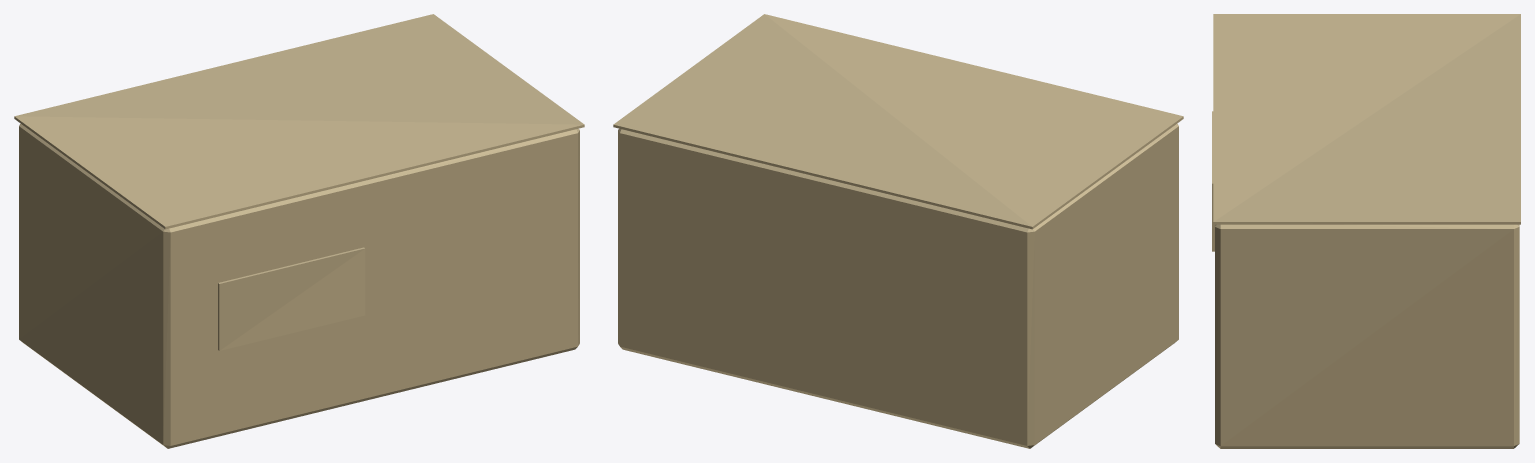
File: cardboard-box-00.glb
3 renders of one model, left to right at view 1: azimuth 30°, elevation 25°; view 2: azimuth 150°, elevation 25°; view 3: azimuth 270°, elevation 25°, orthographic.
Visible parts, largest first — view 1: cardboard_box_00; view 2: cardboard_box_00; view 3: cardboard_box_00.
Part boxes in pixels (left/top/right/bottom): cardboard_box_00: left=14, top=14, right=584, bottom=448; cardboard_box_00: left=613, top=14, right=1183, bottom=448; cardboard_box_00: left=1212, top=14, right=1520, bottom=448.
Bounding box in the file's own units: 0.701 × 0.3611 × 0.4397.
